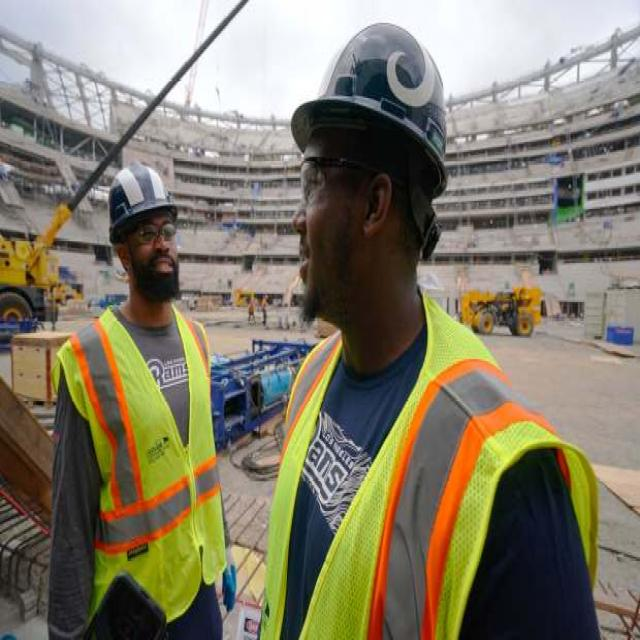Reflective-Jacket: (262, 308, 604, 628), (51, 297, 227, 624)
Safety-Helmet: (287, 16, 458, 191), (100, 148, 185, 242)
